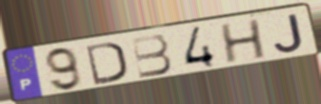4: (180, 24, 220, 70)
9: (44, 47, 84, 93)
B: (129, 33, 175, 80)
D: (83, 40, 128, 87)
H: (218, 17, 269, 65)
J: (273, 12, 307, 54)
